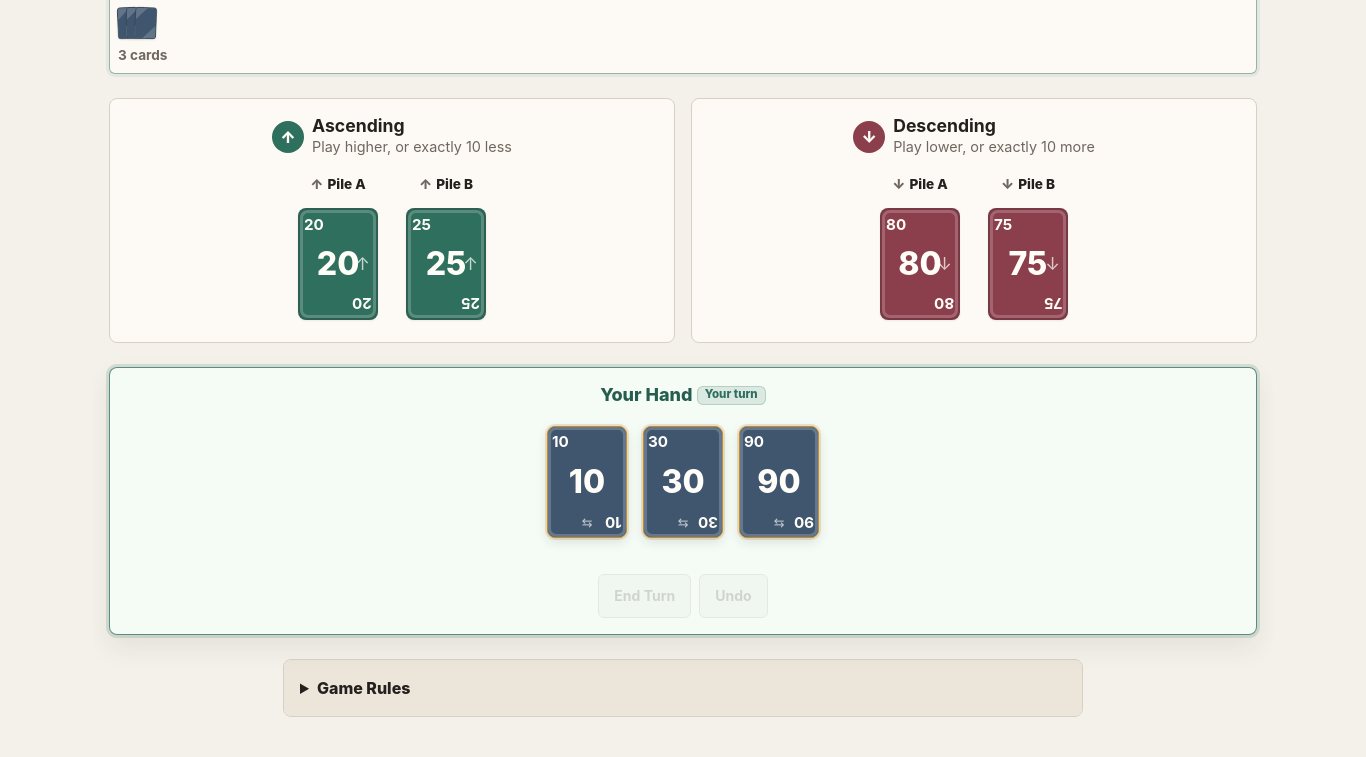
Test case: board status rendering › plays a selected hand card by tapping a valid pile
The width and height of the screenshot is (1366, 757).
(page scrolled)
Click the button named "hand card 30": click(683, 482) x1=643 y1=426 x2=723 y2=538
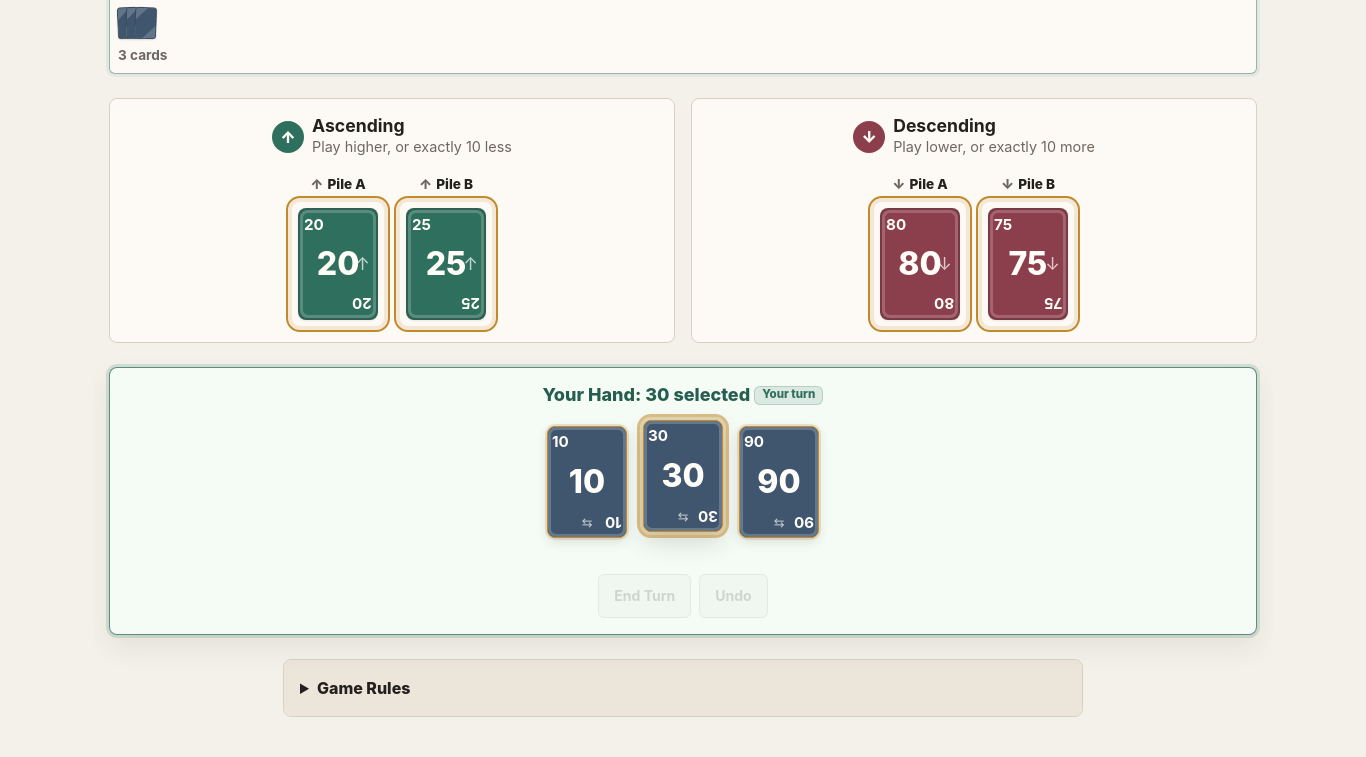
Check: the text "Your Hand: 30 selected" is shown, box x1=542 y1=384 x2=750 y2=406
Click the button named "ascending pile a, current value 20": click(338, 264) x1=292 y1=202 x2=384 y2=326
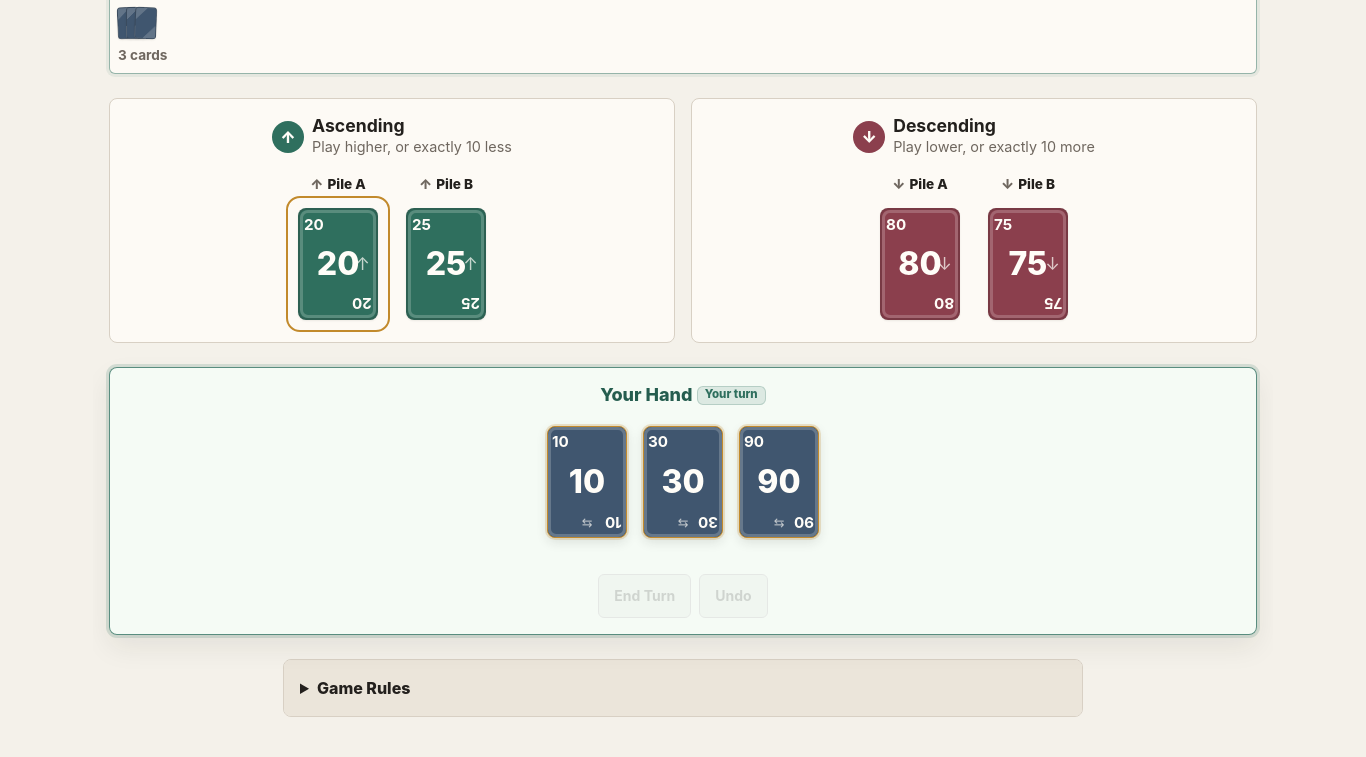
Check: the text "Your Hand: 30 selected" is gone
